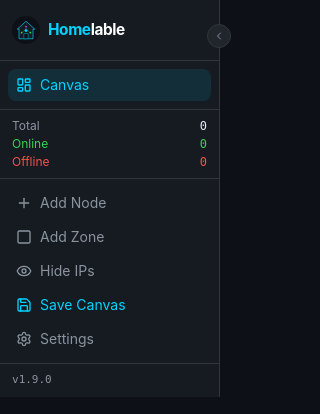
Sidebar › hides label text when collapsed
Click the 1st button at (219, 36), box [207, 24, 231, 48]
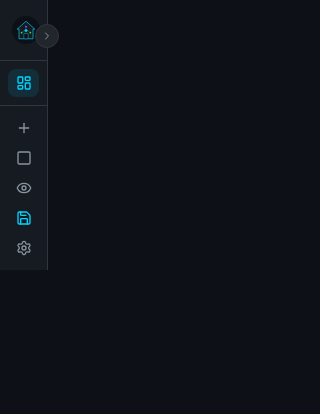
Expected: the button "Add Node" is gone
